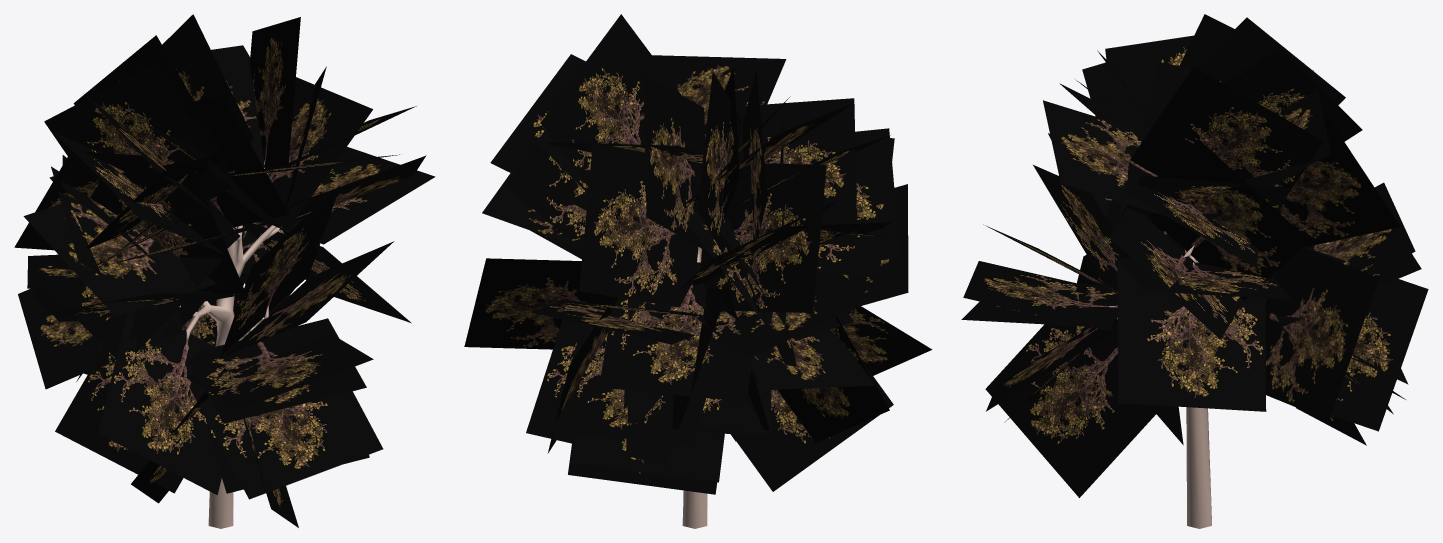
Rendered from tree21.glb.
The picture shows the model from 3 angles, left to right: view 1: azimuth 30°, elevation 25°; view 2: azimuth 150°, elevation 25°; view 3: azimuth 270°, elevation 25°; orthographic projection.
Bounding box in the file's own units: 6.02 × 7.22 × 6.19.
2 materials, 1 textured.
